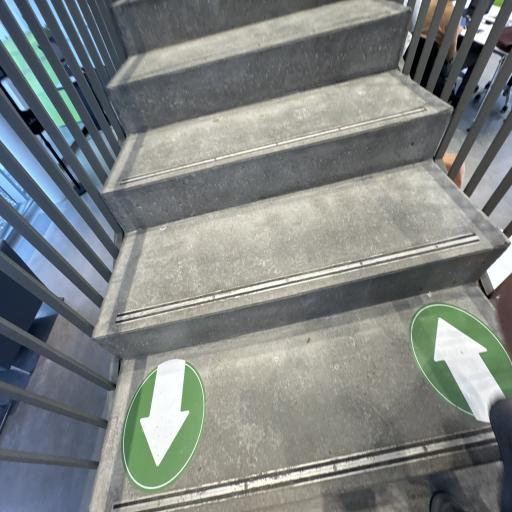Stairs: (90, 0, 509, 512), (90, 285, 499, 512), (94, 160, 508, 359), (102, 70, 451, 231), (107, 0, 409, 133), (112, 0, 333, 55)
